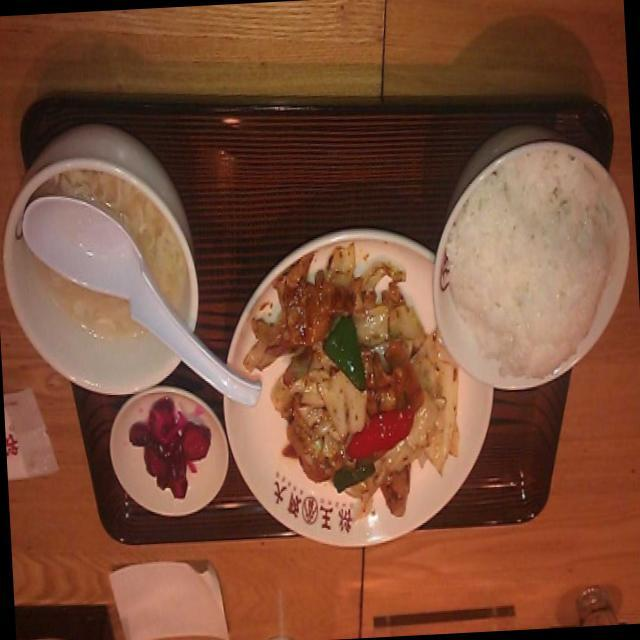Rice: (446, 138, 629, 389)
